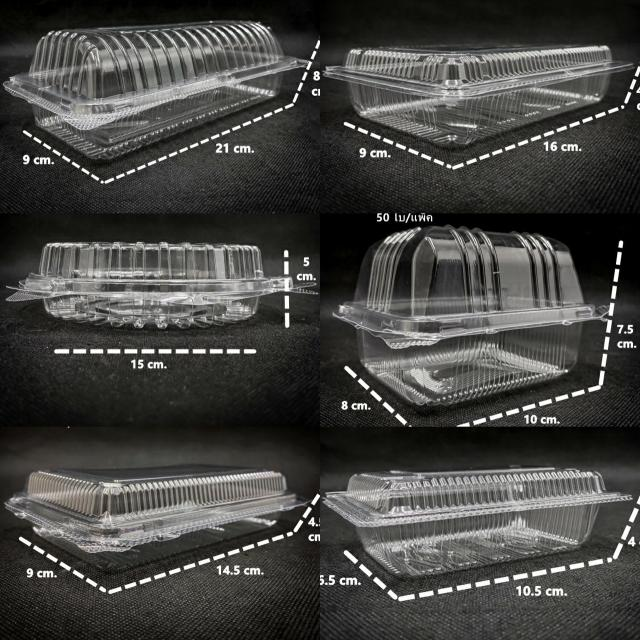Single-Use-Plastic: (333, 226, 604, 405), (4, 21, 306, 158), (324, 468, 632, 576), (5, 464, 306, 571), (324, 45, 633, 146), (8, 242, 315, 329)
